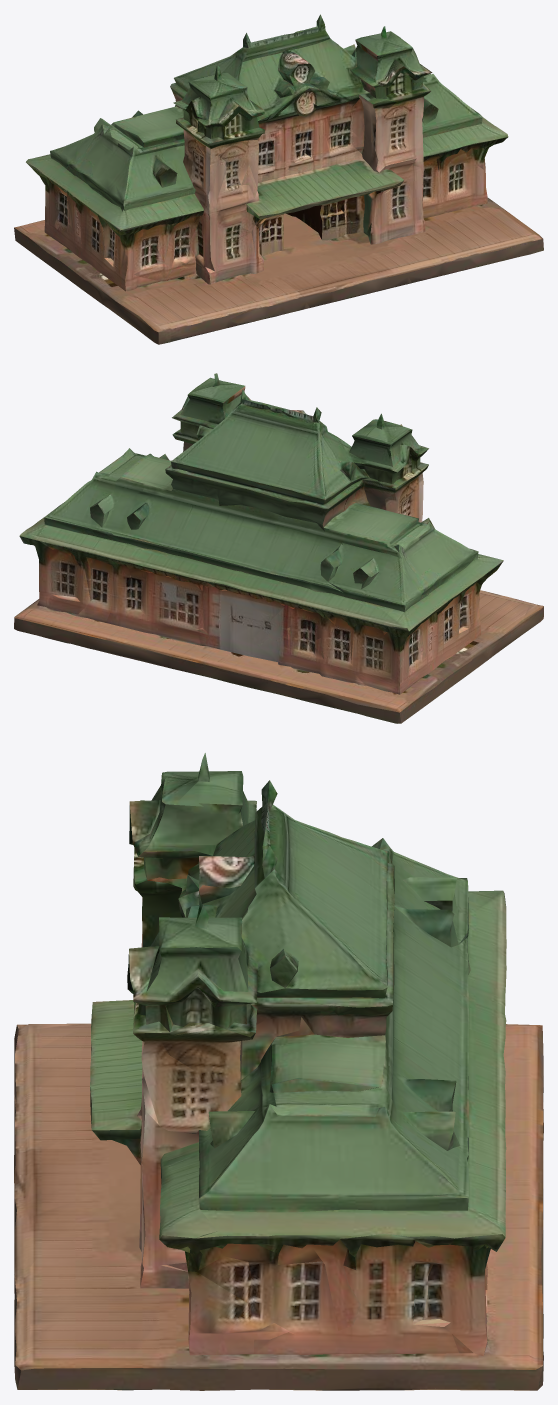
File: mojiko-station.glb
3 renders of one model, top to bottom at view 1: azimuth 30°, elevation 25°; view 2: azimuth 150°, elevation 25°; view 3: azimuth 270°, elevation 25°, orthographic. The views are drawn at different scales.
Parts seen in each view (by area): view 1: logan-textured.obj; view 2: logan-textured.obj; view 3: logan-textured.obj.
Boxes of the visible parts, x1=… form: logan-textured.obj: x1=14, y1=14, x2=543, y2=344; logan-textured.obj: x1=14, y1=373, x2=543, y2=723; logan-textured.obj: x1=14, y1=753, x2=543, y2=1390.
Bounding box in the file's own units: 1 × 0.5477 × 0.6443.
Materials: 1 (1 with a texture image).
